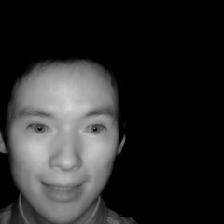happy: (7, 49, 131, 224)
